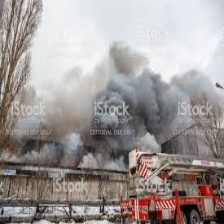smoke: (22, 66, 199, 161)
